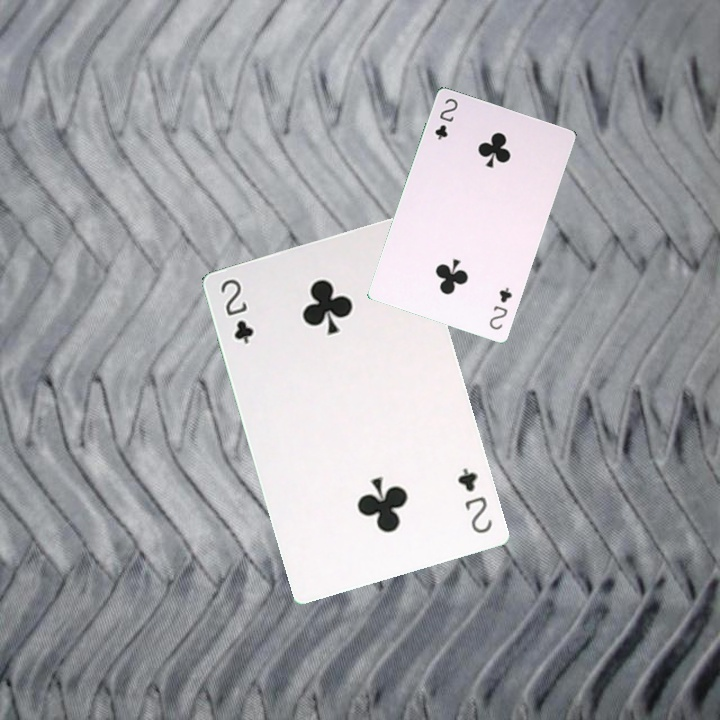2c: (453, 463, 495, 536), (216, 274, 257, 347), (485, 283, 515, 332), (431, 94, 460, 142)
